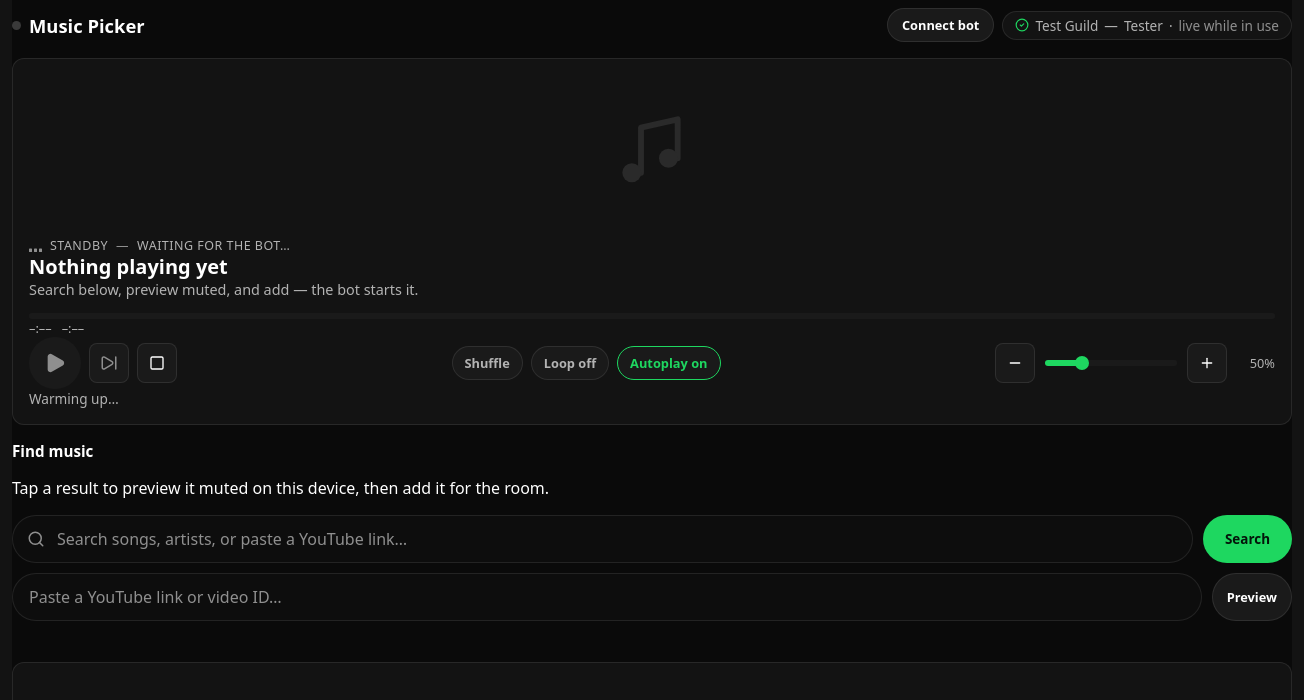
Scenario: search + audition (Checkpoint 4) › search falls back to the bot proxy when the browser backends fail
Type "test song" into the dropdown named "Search YouTube" at (602,539), box [12,515,1193,563]
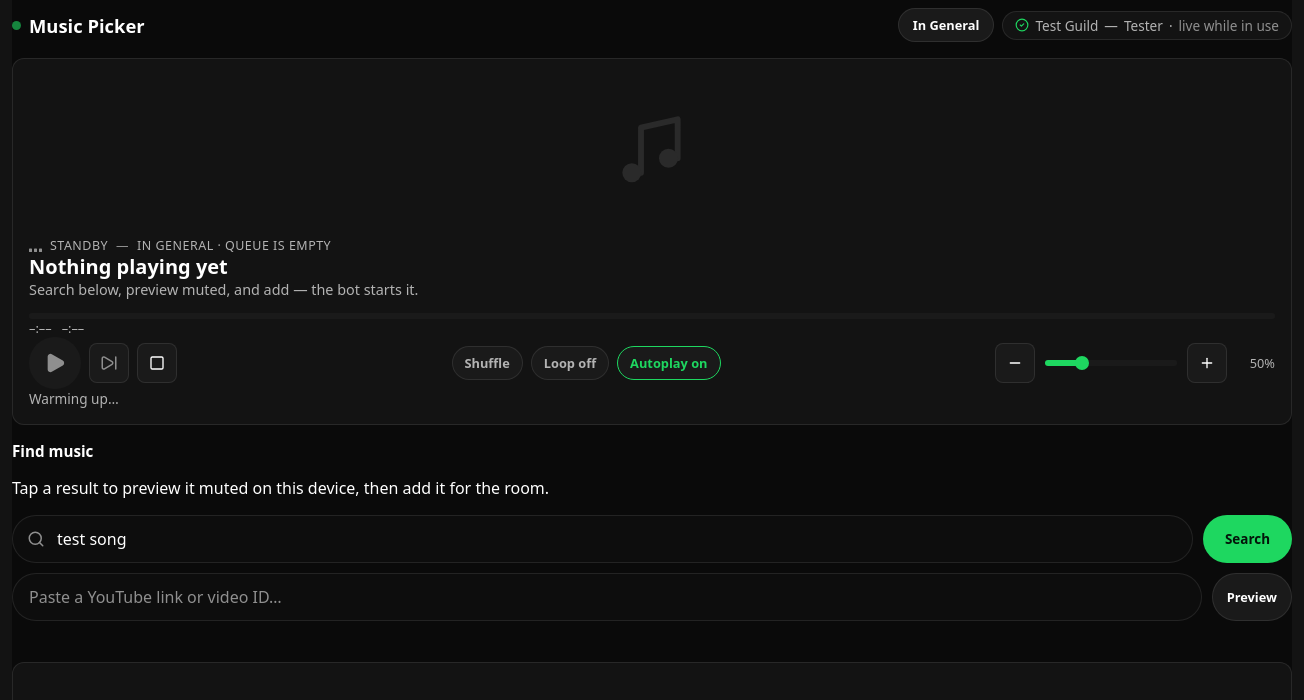
Click the button "Search" at (1248,539), box [1203,515,1292,563]
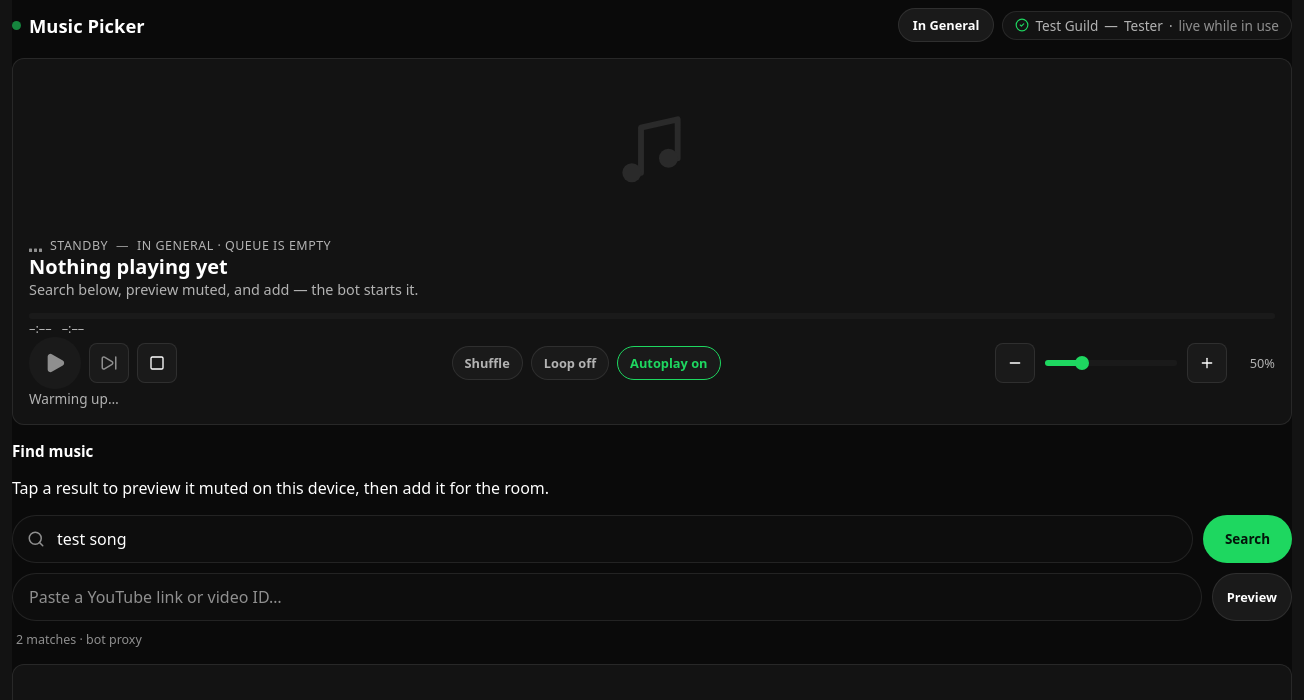
expect the text "2 matches · bot proxy" is shown: met, box [16,631,142,648]
